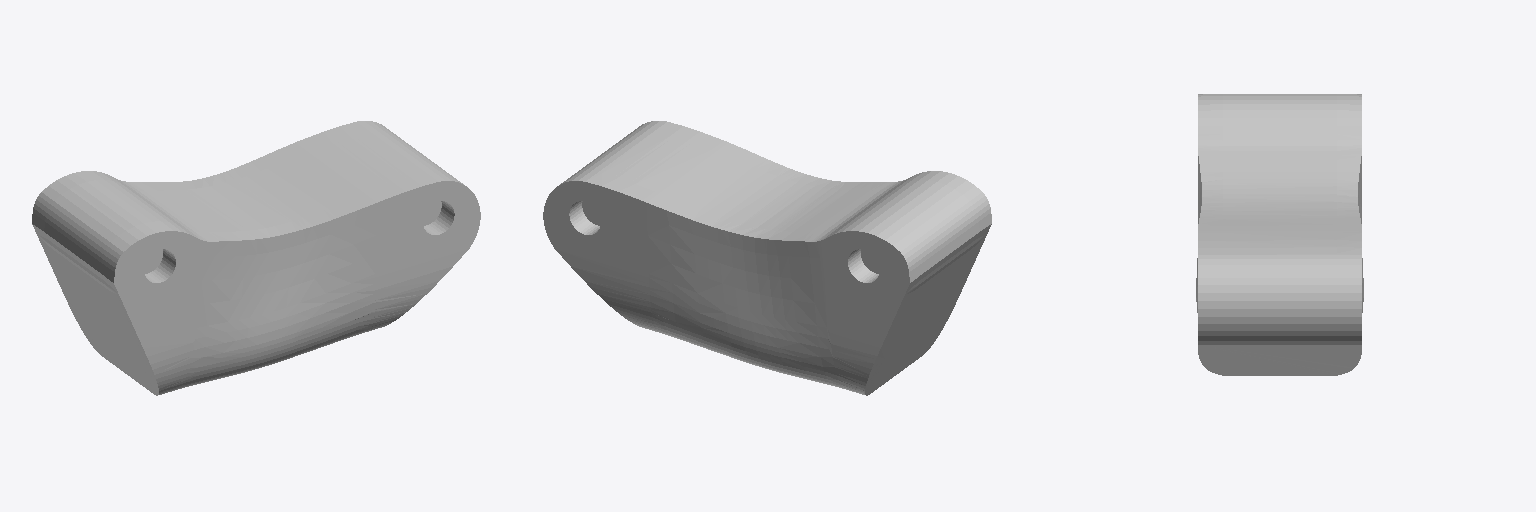
File: processed_finger_proximal.obj
The picture shows the model from 3 angles: view 1: azimuth 30°, elevation 25°; view 2: azimuth 150°, elevation 25°; view 3: azimuth 270°, elevation 25°; orthographic projection.
Parts seen in each view (by area): view 1: finger_proximal; view 2: finger_proximal; view 3: finger_proximal.
Part boxes in pixels (bbox=[...]): finger_proximal: bbox=[32, 121, 480, 395]; finger_proximal: bbox=[543, 121, 991, 395]; finger_proximal: bbox=[1196, 94, 1363, 375].
Size of the model in its own units: 0.0579 by 0.0265 by 0.0229.